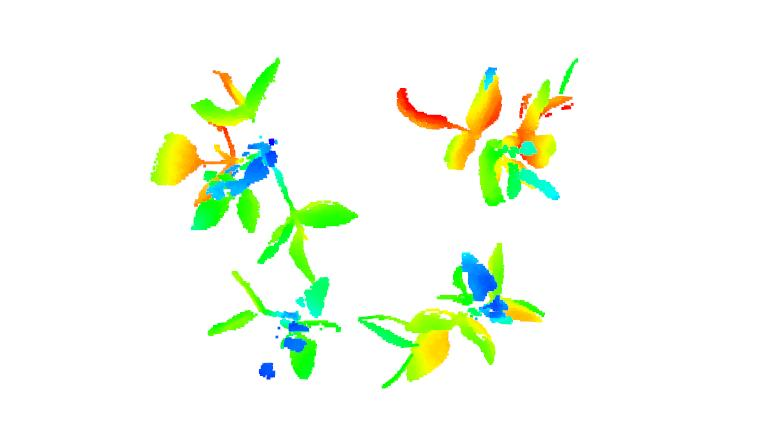mungbean: (149, 56, 361, 280), (359, 239, 551, 389), (391, 60, 578, 208), (206, 271, 343, 381)
